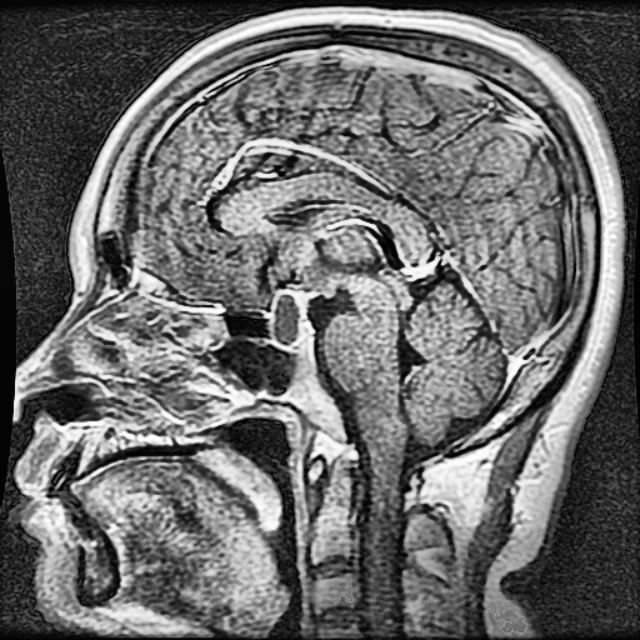Pituitary: (268, 288, 310, 352)
